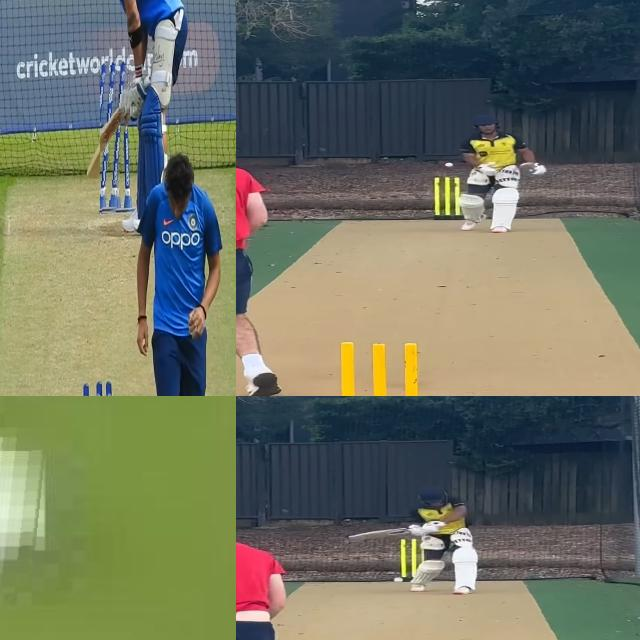Cricket ball: (0, 431, 48, 597), (443, 162, 455, 168), (392, 577, 404, 583)
Stumps: (327, 341, 435, 396), (100, 60, 132, 214), (433, 177, 461, 220), (401, 540, 424, 584)
